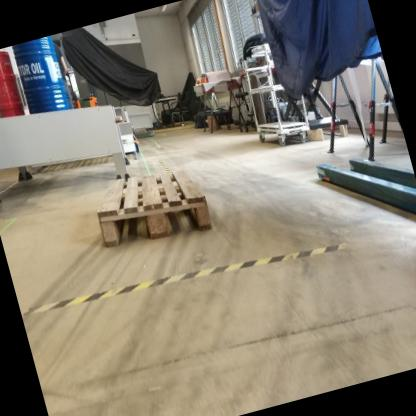BoxFace: (95, 163, 218, 249)
